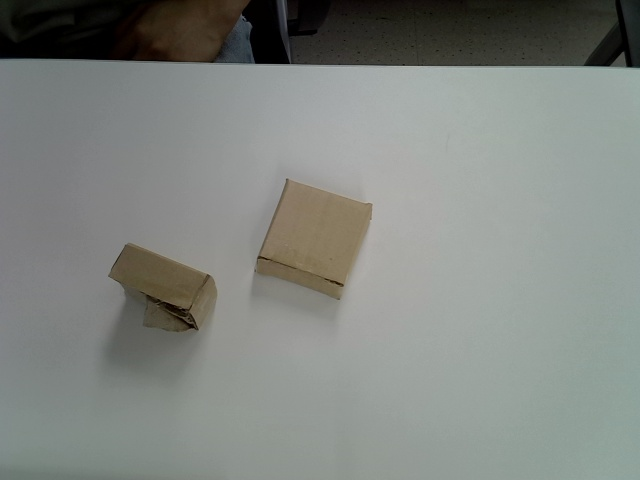defect: (106, 243, 218, 333)
normal: (254, 179, 375, 300)
